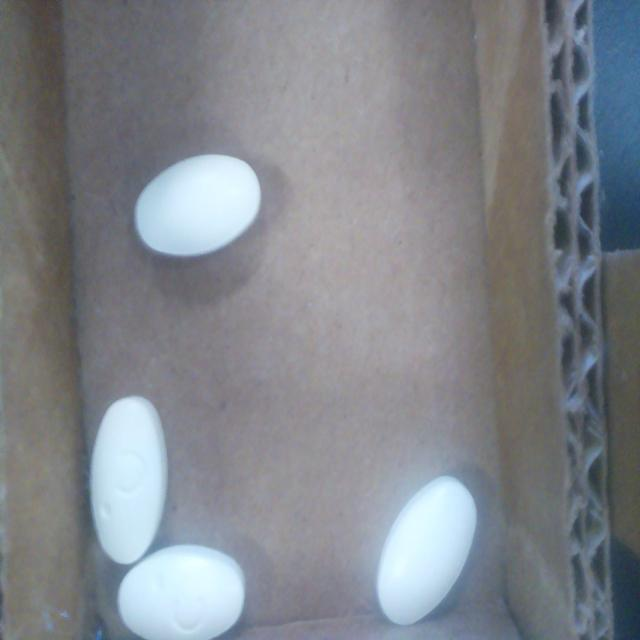pill: (377, 476, 477, 625), (134, 154, 261, 258), (90, 397, 167, 564), (118, 545, 244, 640)
